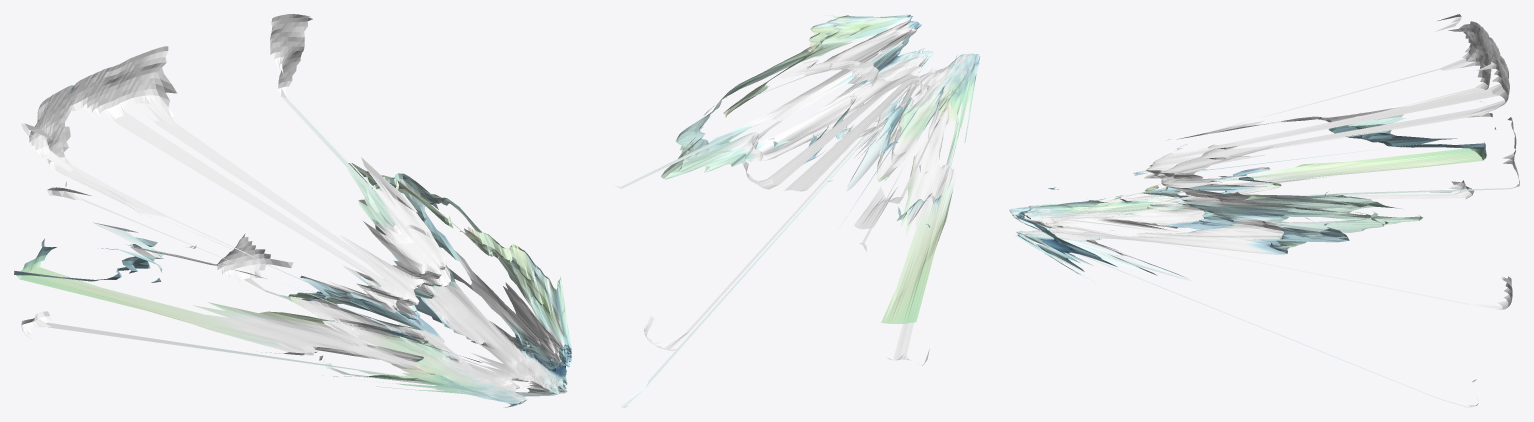
3 renders of one model, left to right at view 1: azimuth 30°, elevation 25°; view 2: azimuth 150°, elevation 25°; view 3: azimuth 270°, elevation 25°, orthographic. The views are drawn at different scales.
Visible parts, largest first — view 1: defaultobject; view 2: defaultobject; view 3: defaultobject.
Boxes of the visible parts, left/top/right/bottom form: defaultobject: left=14, top=14, right=571, bottom=407; defaultobject: left=615, top=14, right=979, bottom=407; defaultobject: left=1009, top=14, right=1519, bottom=407.
Bounding box in the file's own units: 27.08 × 26.4 × 43.93.
1 material, 1 textured.
